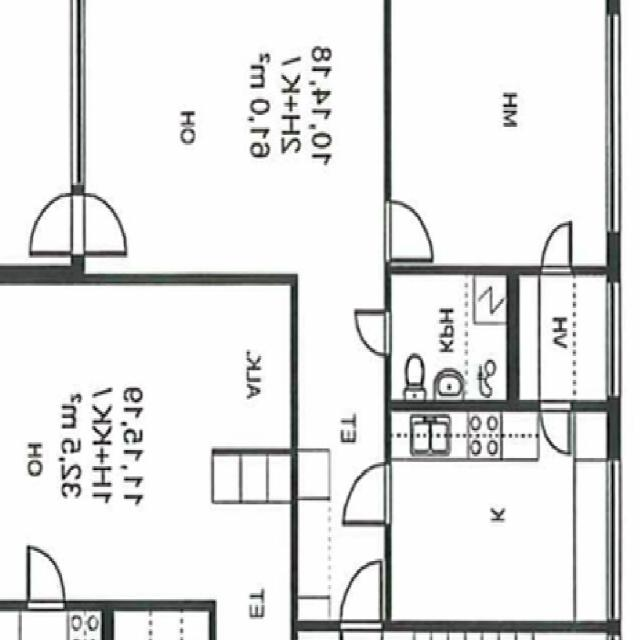door: (70, 195, 124, 253), (30, 195, 84, 253), (340, 562, 381, 630), (344, 464, 390, 523), (384, 202, 430, 259), (354, 311, 391, 356), (540, 401, 569, 453), (542, 222, 571, 274)
